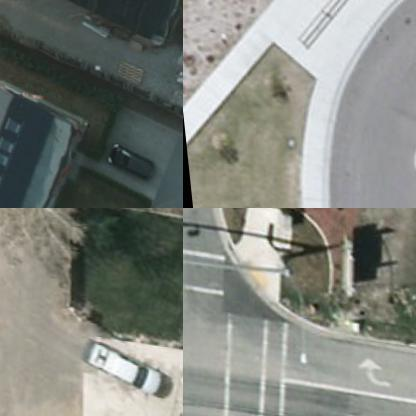car: (70, 335, 164, 397), (103, 140, 156, 176)
